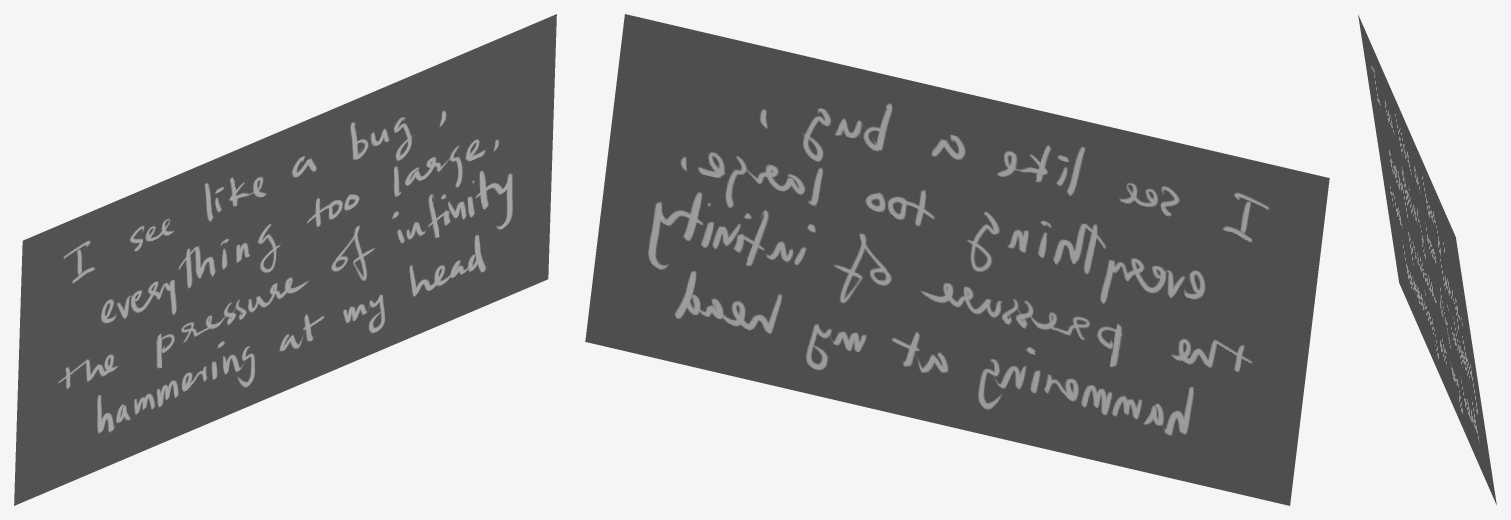
The picture shows the model from 3 angles, left to right: view 1: azimuth 30°, elevation 25°; view 2: azimuth 150°, elevation 25°; view 3: azimuth 270°, elevation 25°; orthographic projection. The views are drawn at different scales.
Visible parts, largest first — view 1: Plane.005; view 2: Plane.005; view 3: Plane.005.
Boxes of the visible parts, box(x1,y1,x2,y2) form: Plane.005: box(14, 14, 556, 505); Plane.005: box(585, 14, 1329, 505); Plane.005: box(1358, 15, 1496, 504).
Size of the model in its own units: 2.64 by 1.38 by 0.5732.
Materials: 1 (1 with a texture image).
